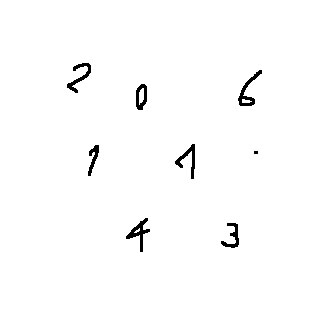.: (249, 148, 265, 162)
0: (129, 73, 153, 119)
1: (80, 139, 109, 179)
2: (60, 53, 97, 102)
3: (215, 220, 246, 257)
4: (124, 213, 158, 260)
6: (236, 68, 273, 108)
7: (171, 138, 204, 186)
